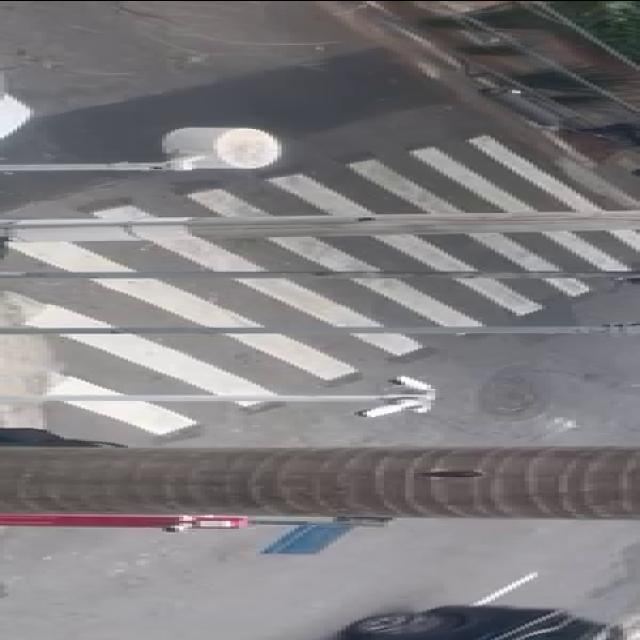car: (282, 598, 628, 640)
